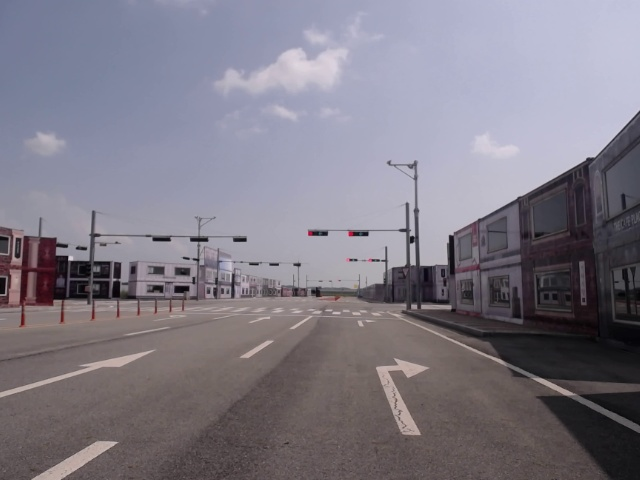left_green_4: (347, 231, 369, 237), (308, 230, 328, 236)
